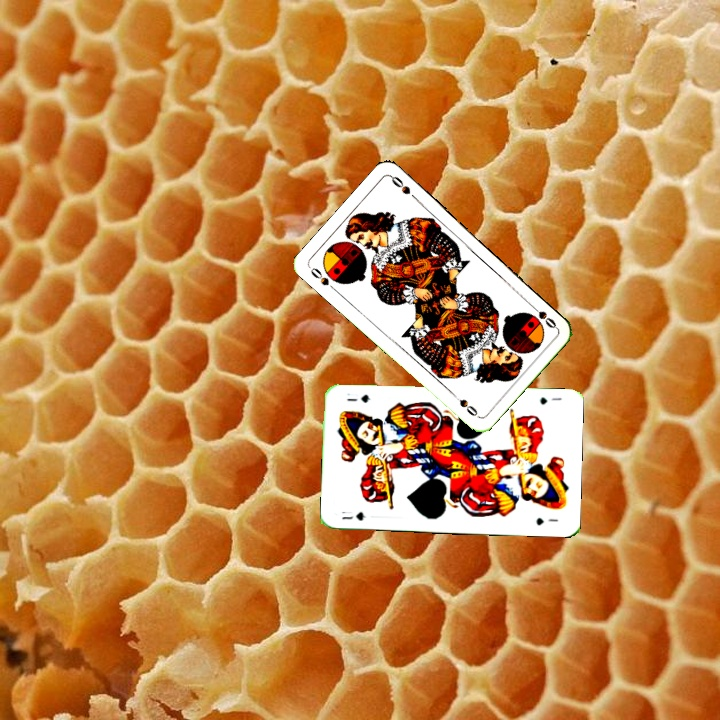GU: (338, 508, 368, 523), (536, 393, 564, 407)
SO: (526, 299, 559, 331), (305, 263, 339, 294)
